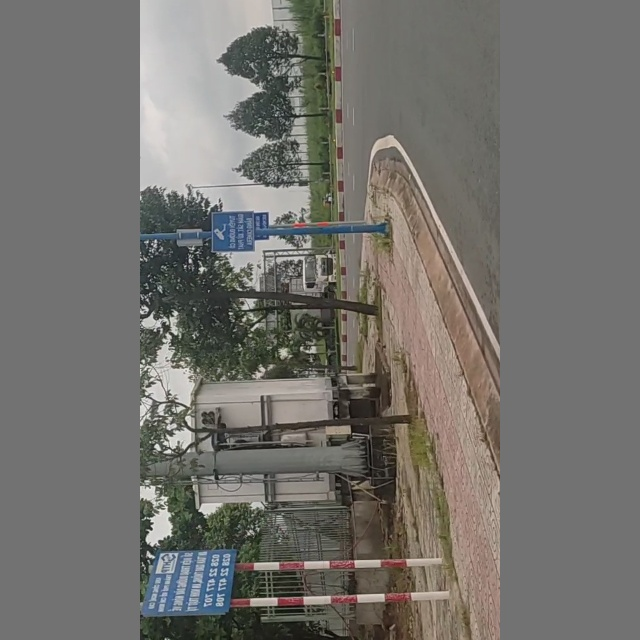Camera: (211, 210, 255, 254)
